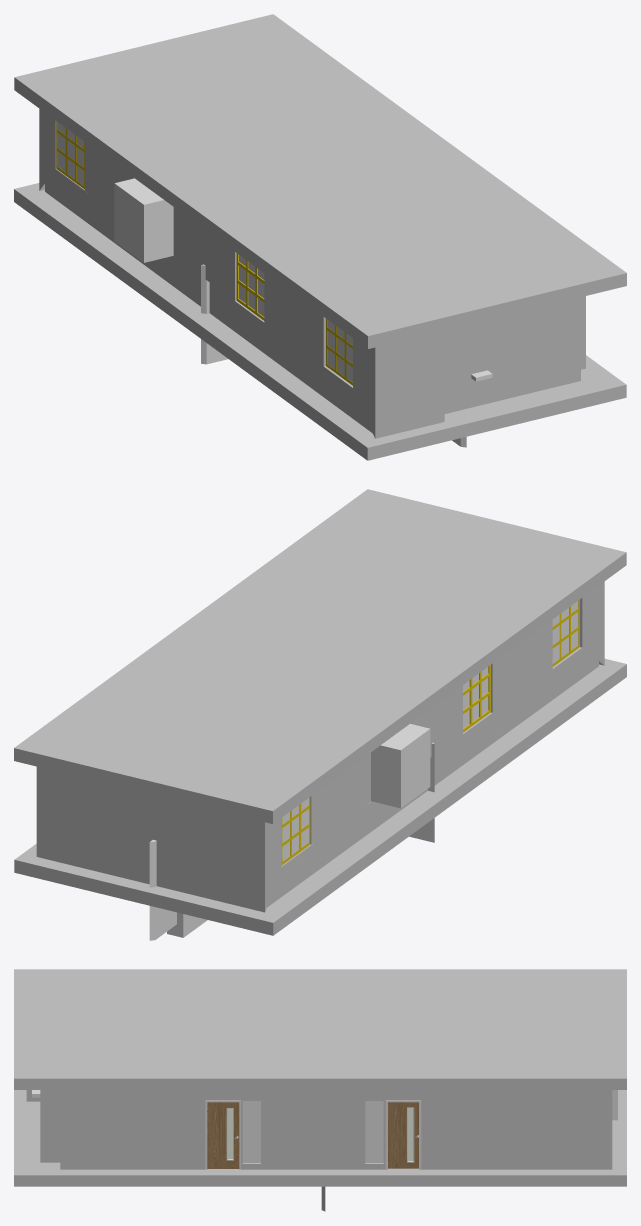
The model's file is bloomberg_roomDoor.fbx.
3 renders of one model, top to bottom at view 1: azimuth 30°, elevation 25°; view 2: azimuth 150°, elevation 25°; view 3: azimuth 270°, elevation 25°, orthographic. The views are drawn at different scales.
Parts seen in each view (by area): view 1: ceiling, bloomberg_room, floor, Cube, window mid.002, window mid.003, window mid, BloombergWallPiece.003, bloomberg_window.003, bloomberg_window.004; view 2: ceiling, bloomberg_room, floor, Cube, BloombergWallPiece.004, window mid.002, window mid.003, window mid, bloomberg_window.003, bloomberg_window.004; view 3: ceiling, bloomberg_room, floor, door_004.001, door_004.002, window mid.004, window mid.005, frame_004.002, frame_004.001.
Part boxes in pixels (<box>): ceiling: <box>14,14,626,348</box>; bloomberg_room: <box>39,109,585,438</box>; floor: <box>14,183,626,460</box>; Cube: <box>114,178,173,262</box>; window mid.002: <box>55,122,88,193</box>; window mid.003: <box>327,320,352,382</box>; window mid: <box>239,255,264,316</box>; BloombergWallPiece.003: <box>201,264,227,364</box>; bloomberg_window.003: <box>236,253,264,320</box>; bloomberg_window.004: <box>56,121,84,189</box>; ceiling: <box>14,489,626,823</box>; bloomberg_room: <box>36,581,604,912</box>; floor: <box>14,658,626,935</box>; Cube: <box>371,724,430,808</box>; BloombergWallPiece.004: <box>149,840,176,940</box>; window mid.002: <box>281,798,312,867</box>; window mid.003: <box>552,601,578,663</box>; window mid: <box>463,667,488,728</box>; bloomberg_window.003: <box>463,665,490,732</box>; bloomberg_window.004: <box>281,797,310,864</box>; ceiling: <box>14,969,626,1089</box>; bloomberg_room: <box>26,1090,612,1169</box>; floor: <box>14,1090,626,1186</box>; door_004.001: <box>207,1102,239,1168</box>; door_004.002: <box>388,1102,418,1168</box>; window mid.004: <box>242,1101,260,1162</box>; window mid.005: <box>365,1101,383,1162</box>; frame_004.002: <box>385,1100,421,1169</box>; frame_004.001: <box>205,1100,240,1169</box>.
Bounding box in the file's own units: 747 × 463 × 1677.
